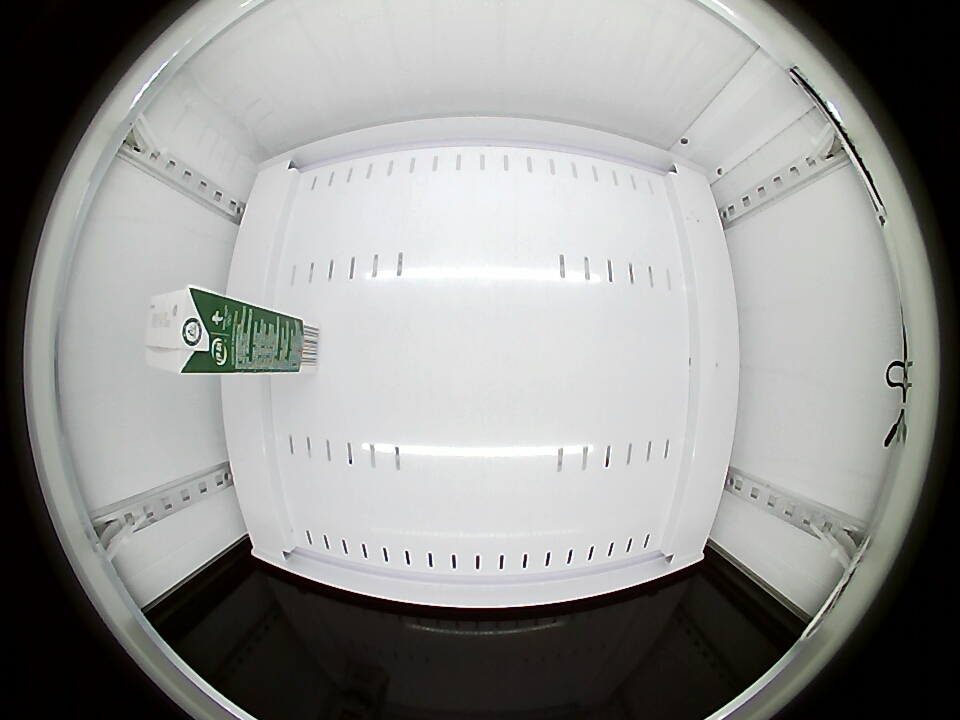jindian: (144, 287, 232, 376)
